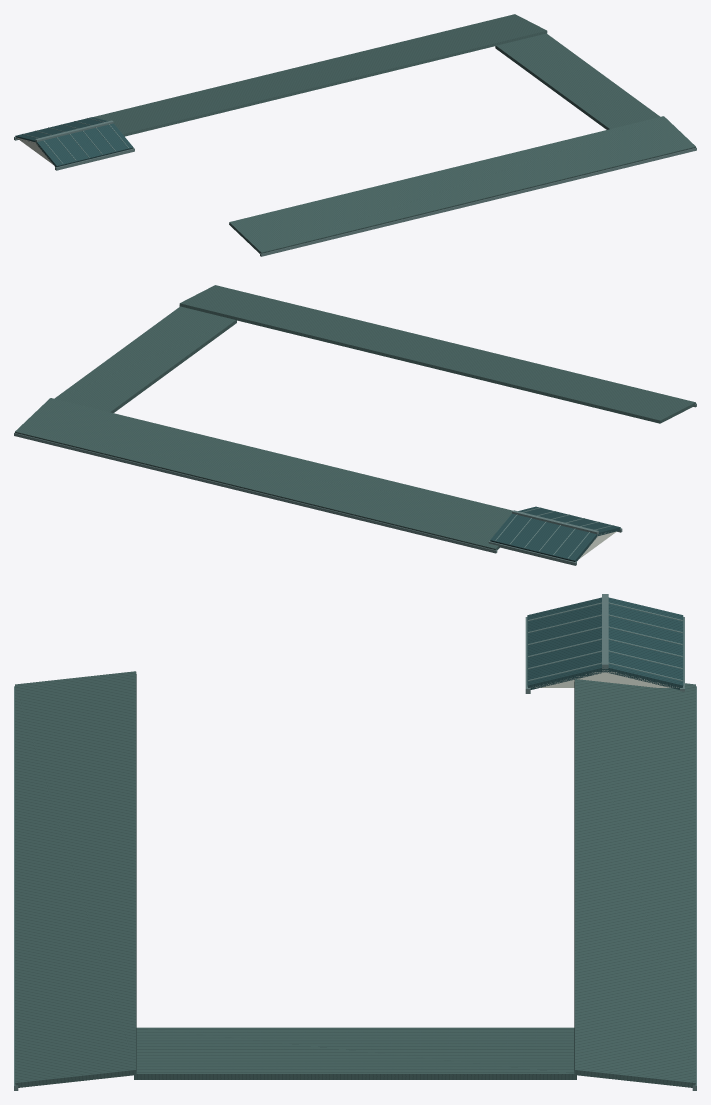
File: roof-lower.glb
The picture shows the model from 3 angles, top to bottom: view 1: azimuth 30°, elevation 25°; view 2: azimuth 150°, elevation 25°; view 3: azimuth 270°, elevation 25°; orthographic projection. The views are drawn at different scales.
Bounding box in the file's own units: 26.95 × 0.945 × 16.81.
Materials: 6 (4 with a texture image).
